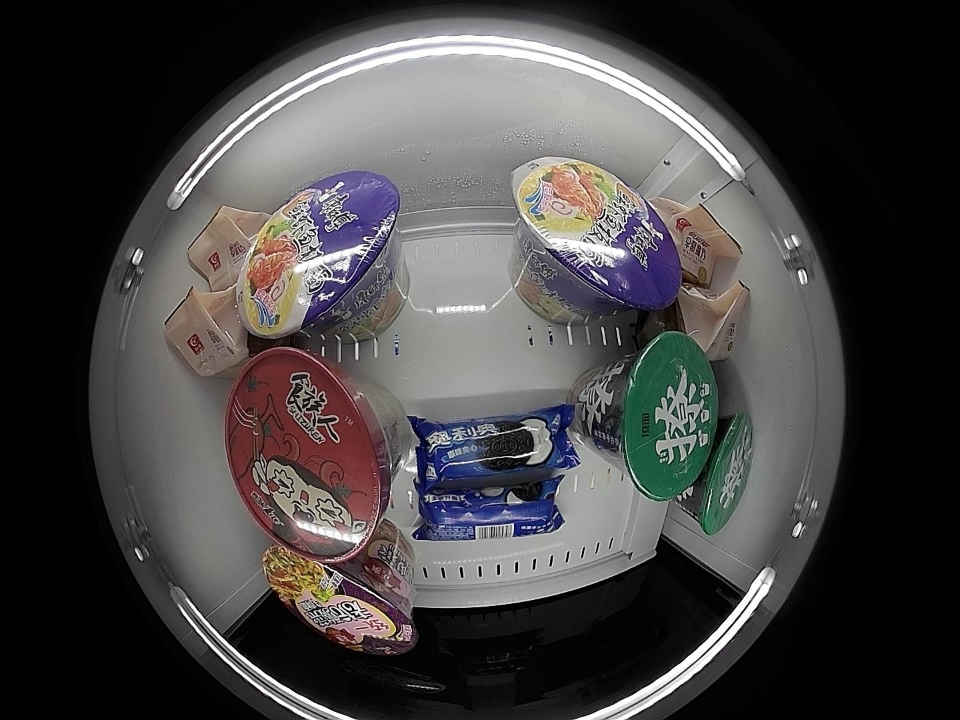aoliao: (415, 412, 573, 486), (417, 484, 565, 539)
laotansuancai: (261, 542, 418, 656)
liaomian: (602, 331, 719, 499), (689, 412, 754, 534)
suanlafen: (225, 348, 395, 559)
xianxiayuban: (235, 169, 398, 340), (512, 157, 683, 312)
zaocanmofang: (659, 197, 744, 285), (161, 287, 244, 377), (664, 281, 752, 355), (184, 203, 253, 286)
